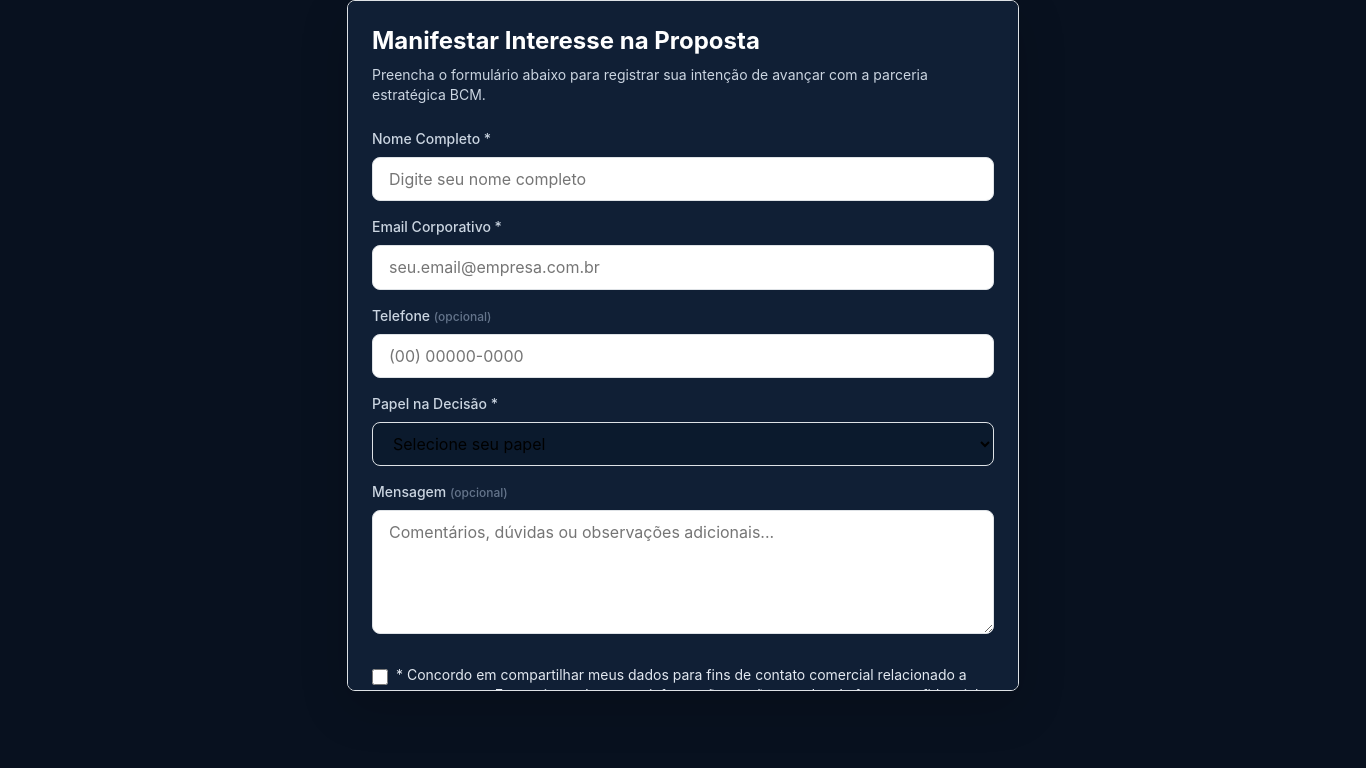
Test: IntentForm › Accessibility › should associate error messages with inputs via aria-describedby
# Type and then clear to trigger validation
Type "A" into the field labelled "Nome Completo *".
click(683, 179); type("A")  # box x1=372 y1=157 x2=994 y2=201
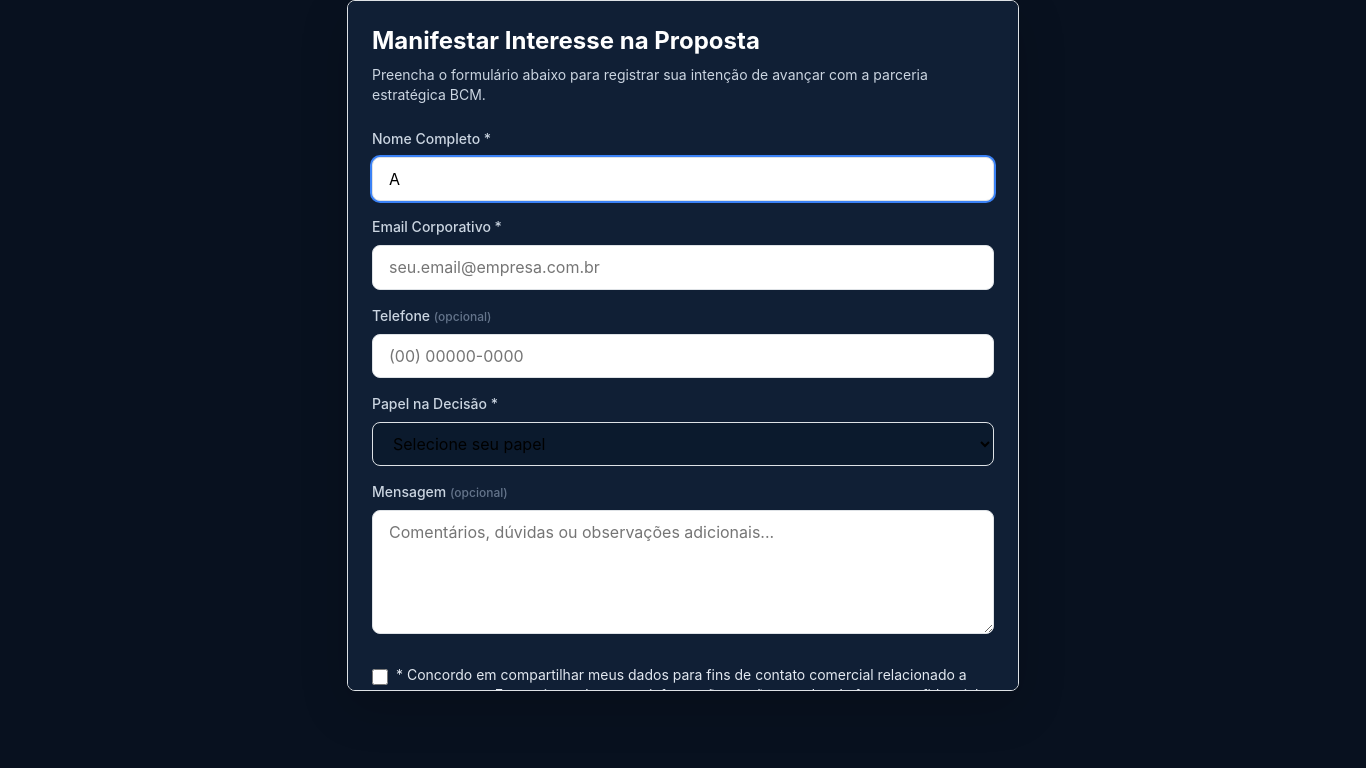
Clear the field labelled "Nome Completo *" at (683, 179), box x1=372 y1=157 x2=994 y2=201
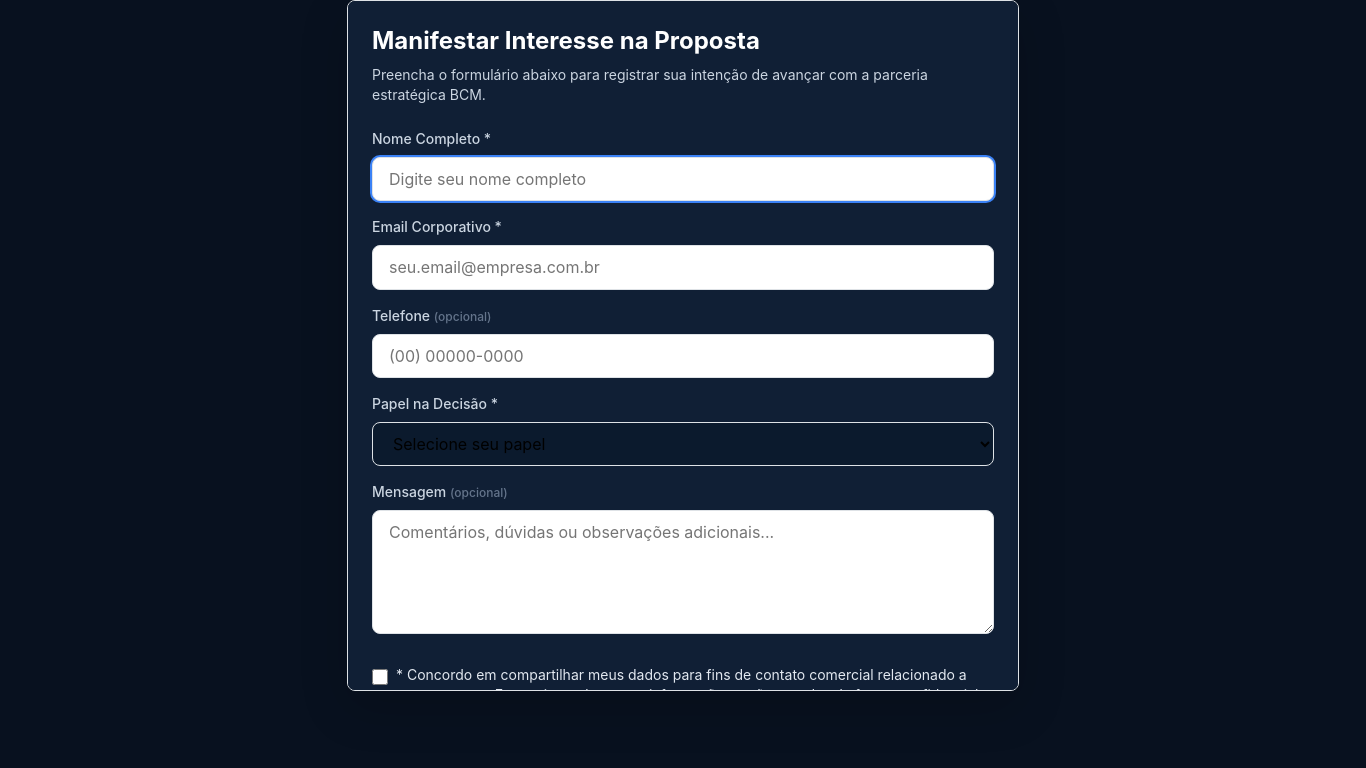
Click the element that starts with "Manifestar Interesse na Proposta".
click(683, 384)  # box x1=0 y1=0 x2=1365 y2=767
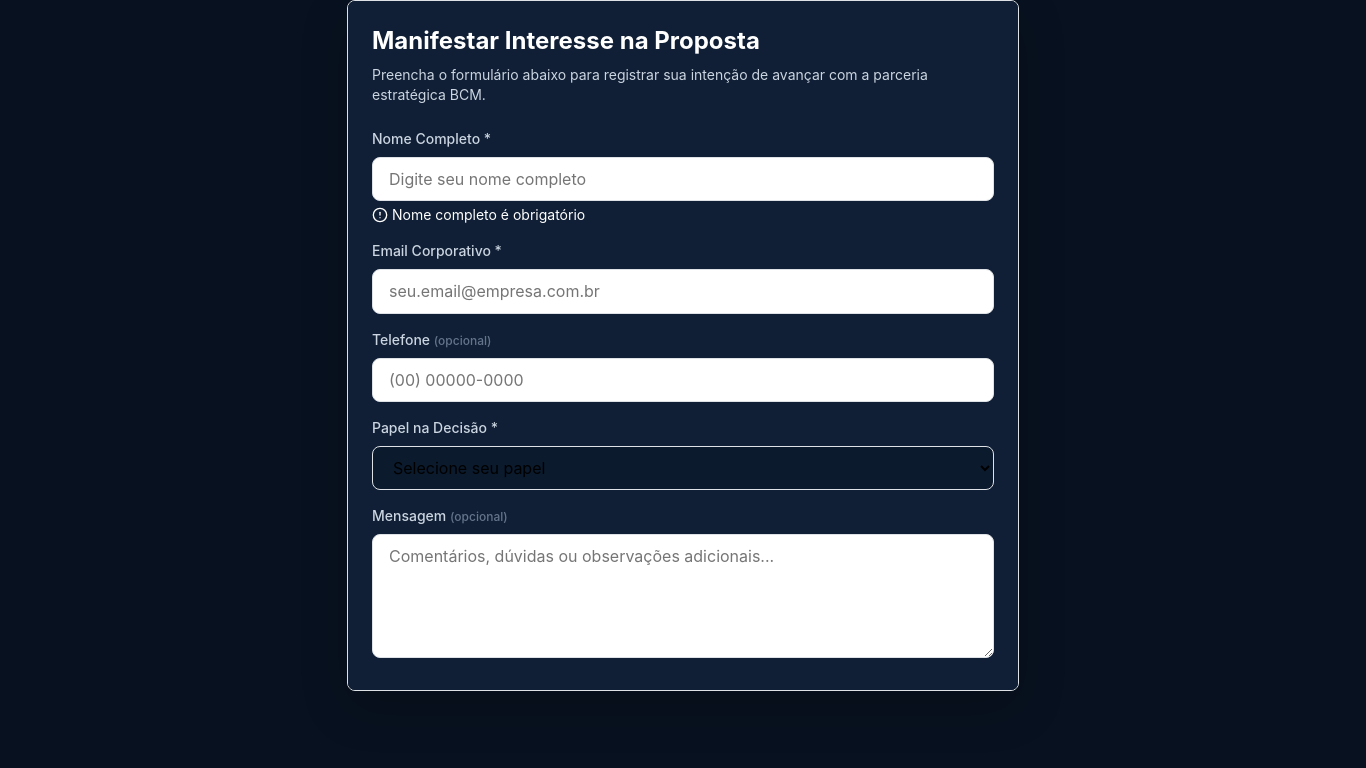
Check: the message reads "Nome completo é obrigatório", box x1=392 y1=206 x2=585 y2=223
